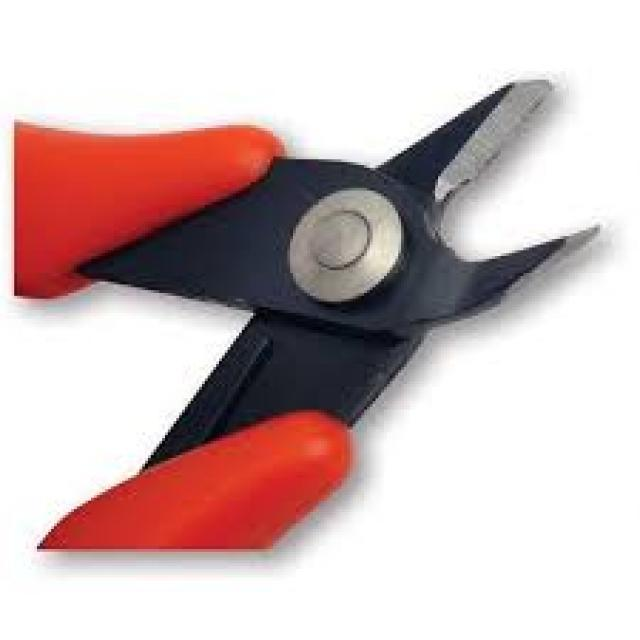pliers: (10, 63, 612, 566)
